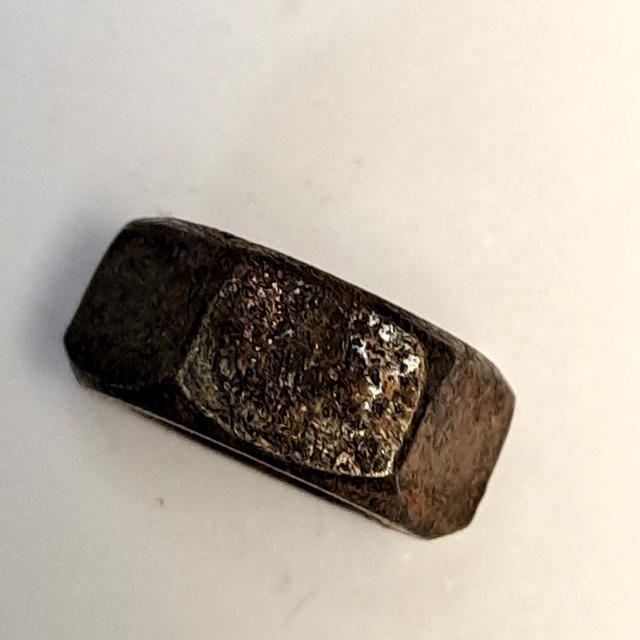Side_Rust: (55, 194, 539, 564)
